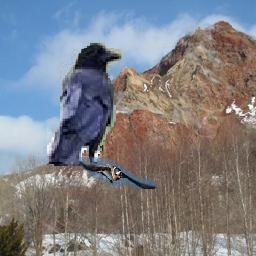Crow: (47, 42, 123, 167)
Swallow: (80, 157, 157, 189)
